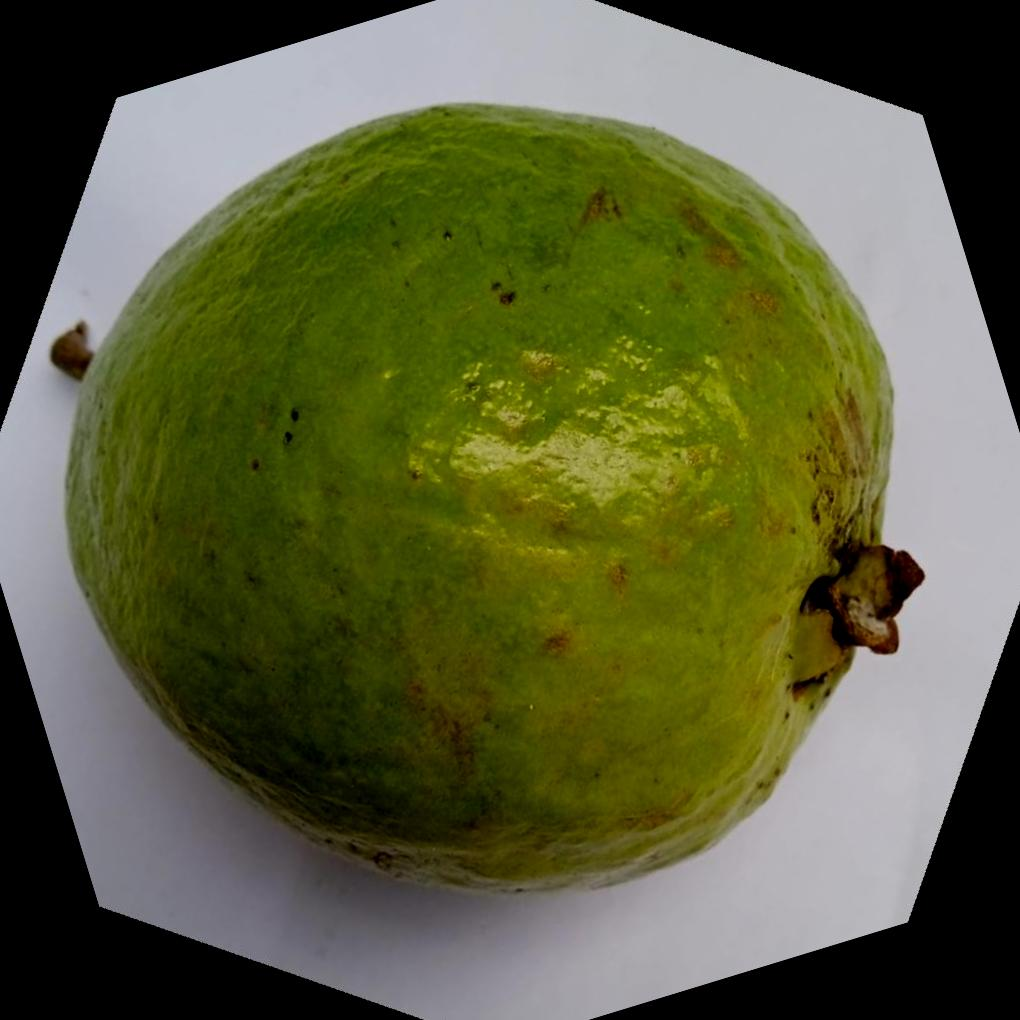FreshGuava: (58, 98, 920, 896)
